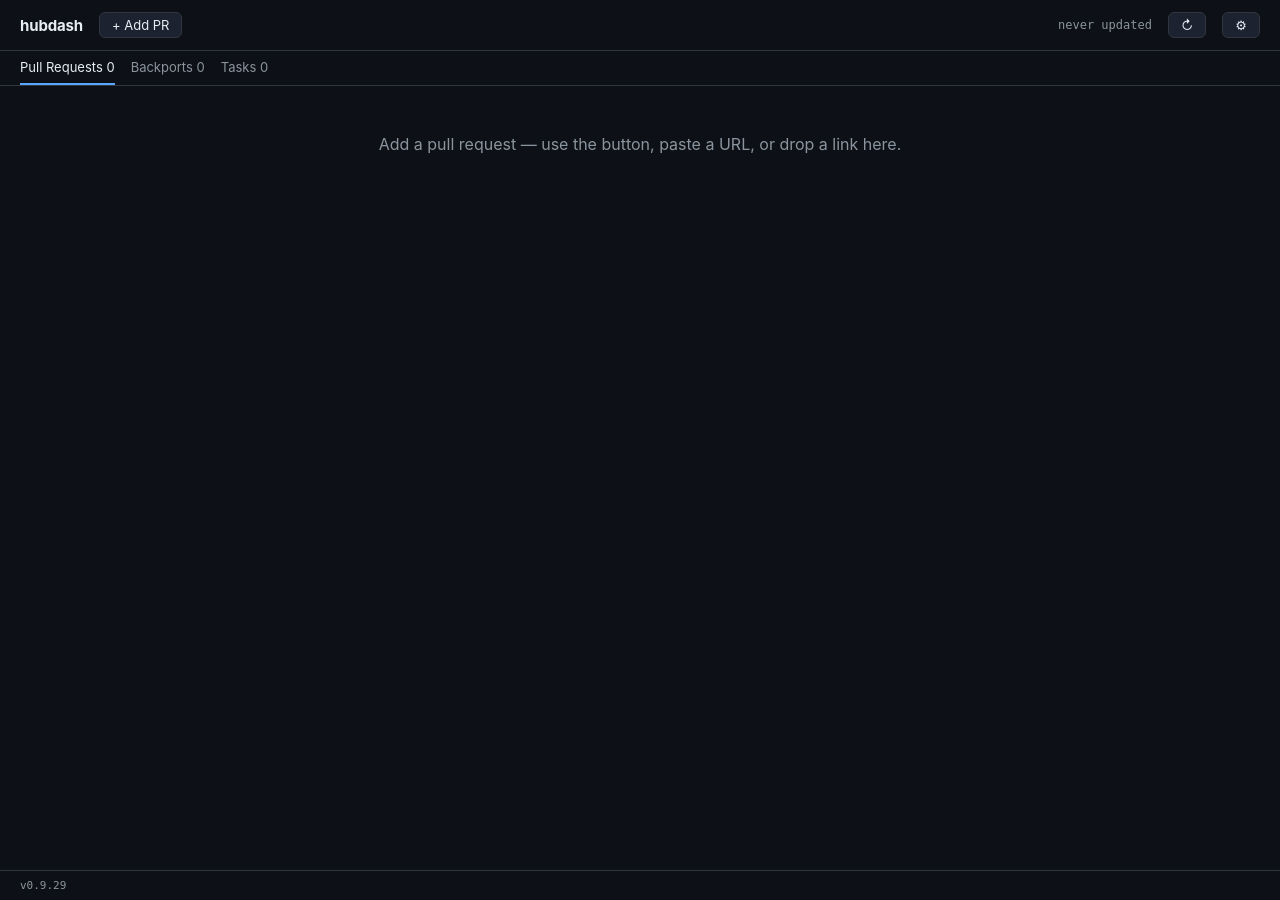
Test: App — the Backports tab › switches to Backports and shows its own empty state
The width and height of the screenshot is (1280, 900).
Click the tab "Backports 0": (168,68) 131,51 -> 205,85
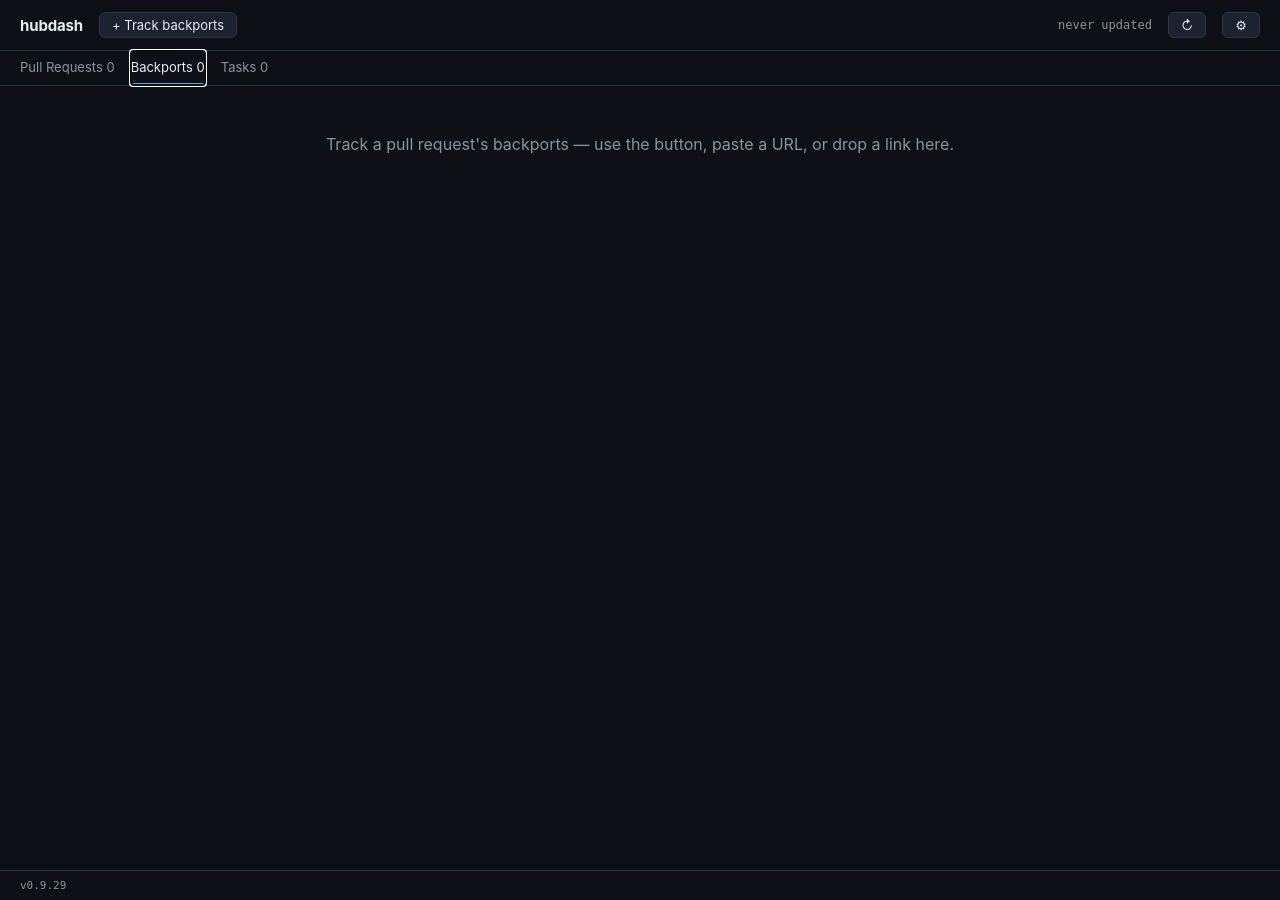
Result: the text "Track a pull request" is shown at 326,134 -> 954,154
